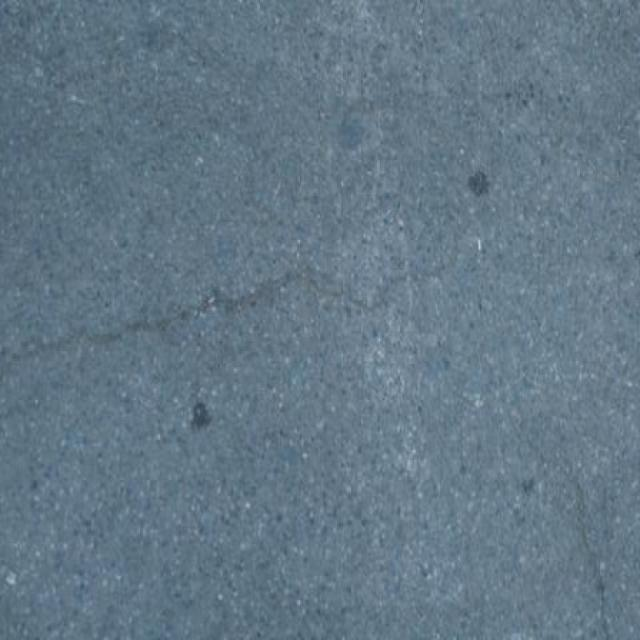Alligator Crack: (1, 177, 479, 374), (498, 360, 608, 640)
